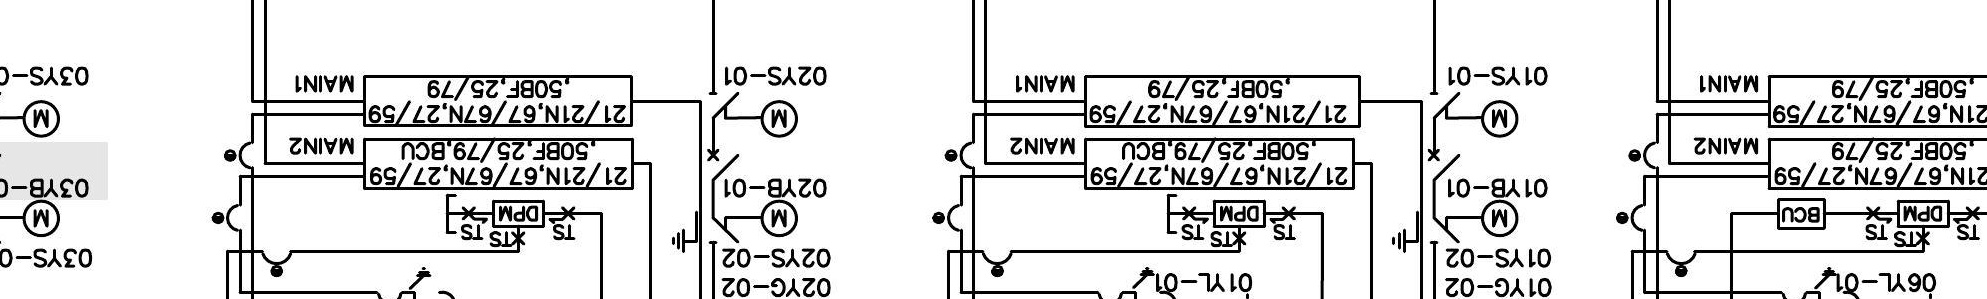115_1way_ds_w_motor: (1428, 91, 1519, 138), (708, 91, 798, 138)
115_3ways_ds_w_motor: (1391, 199, 1519, 253), (670, 199, 798, 253)
115_breaker: (1427, 148, 1461, 181), (707, 148, 740, 181)
BCU: (1777, 198, 1827, 231)
DPM: (492, 199, 546, 228), (1897, 199, 1950, 228), (1213, 200, 1267, 228)
